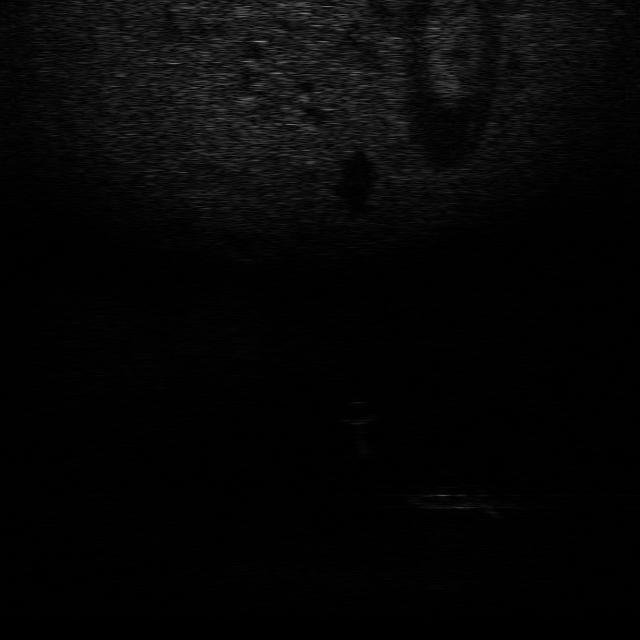ball: (328, 394, 382, 427)
tyre: (400, 483, 510, 514)
